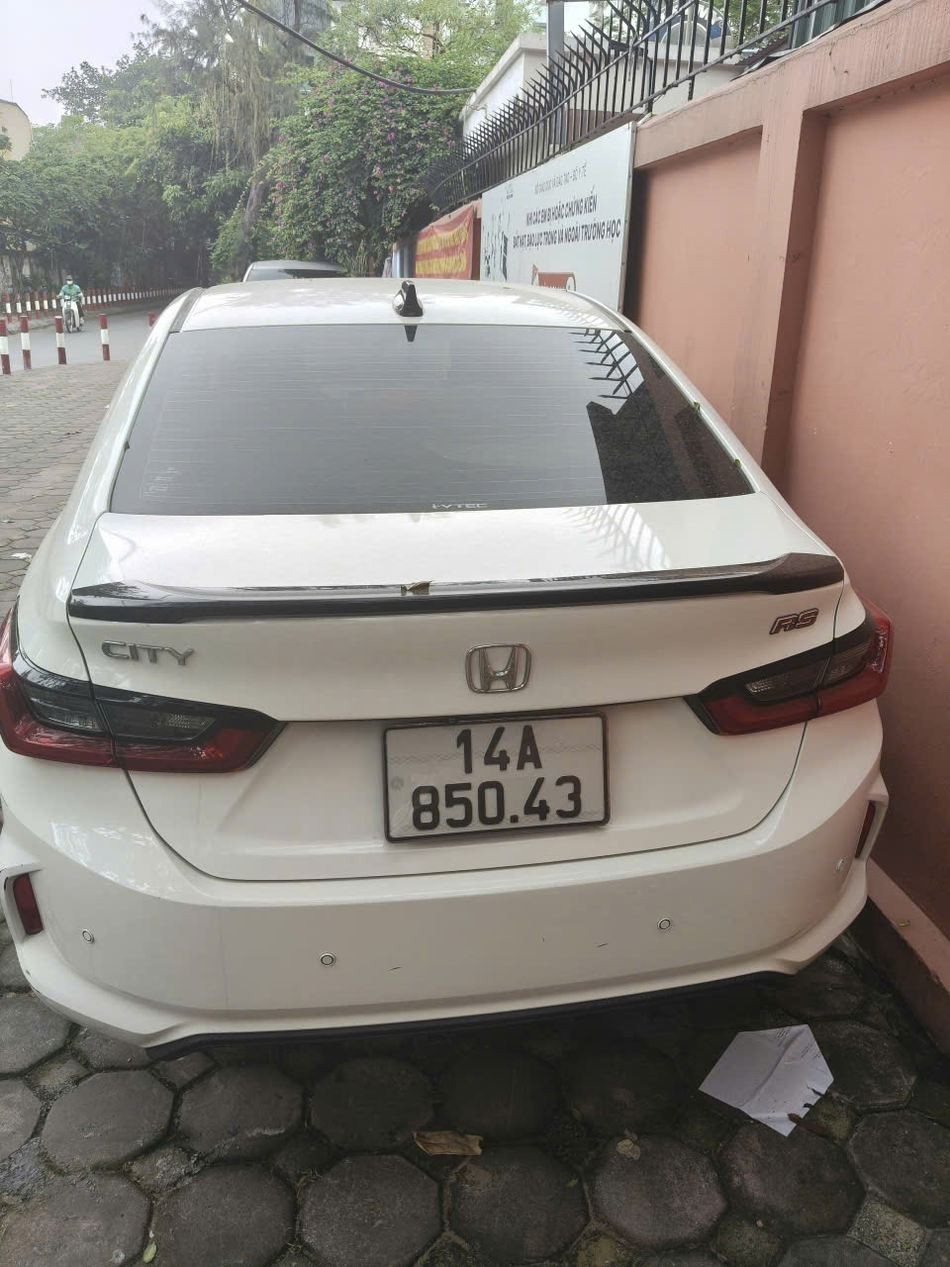plate: (95, 635, 201, 671)
